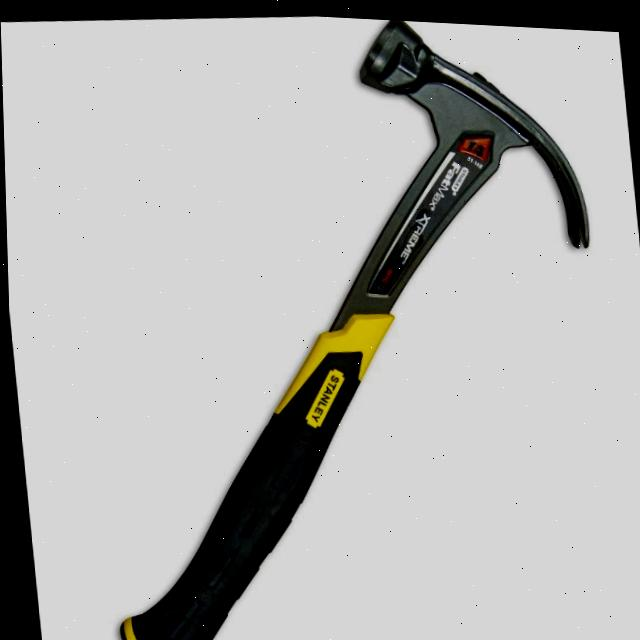hammer: (51, 2, 638, 640)
